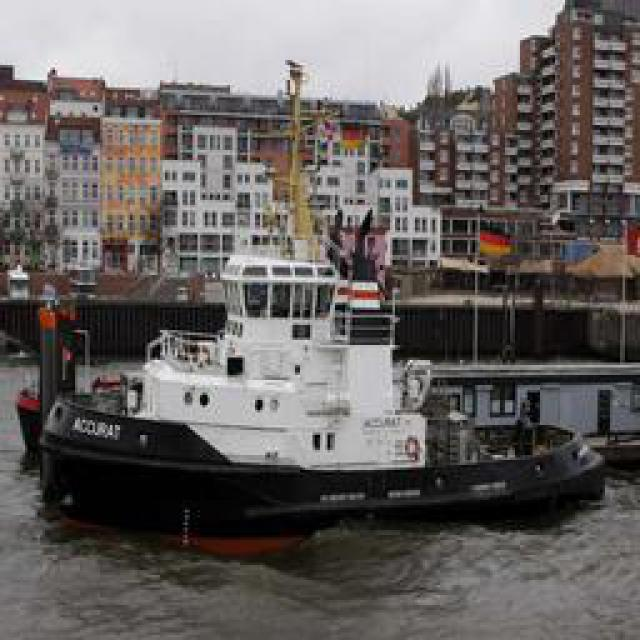Ship: (37, 159, 620, 539)
